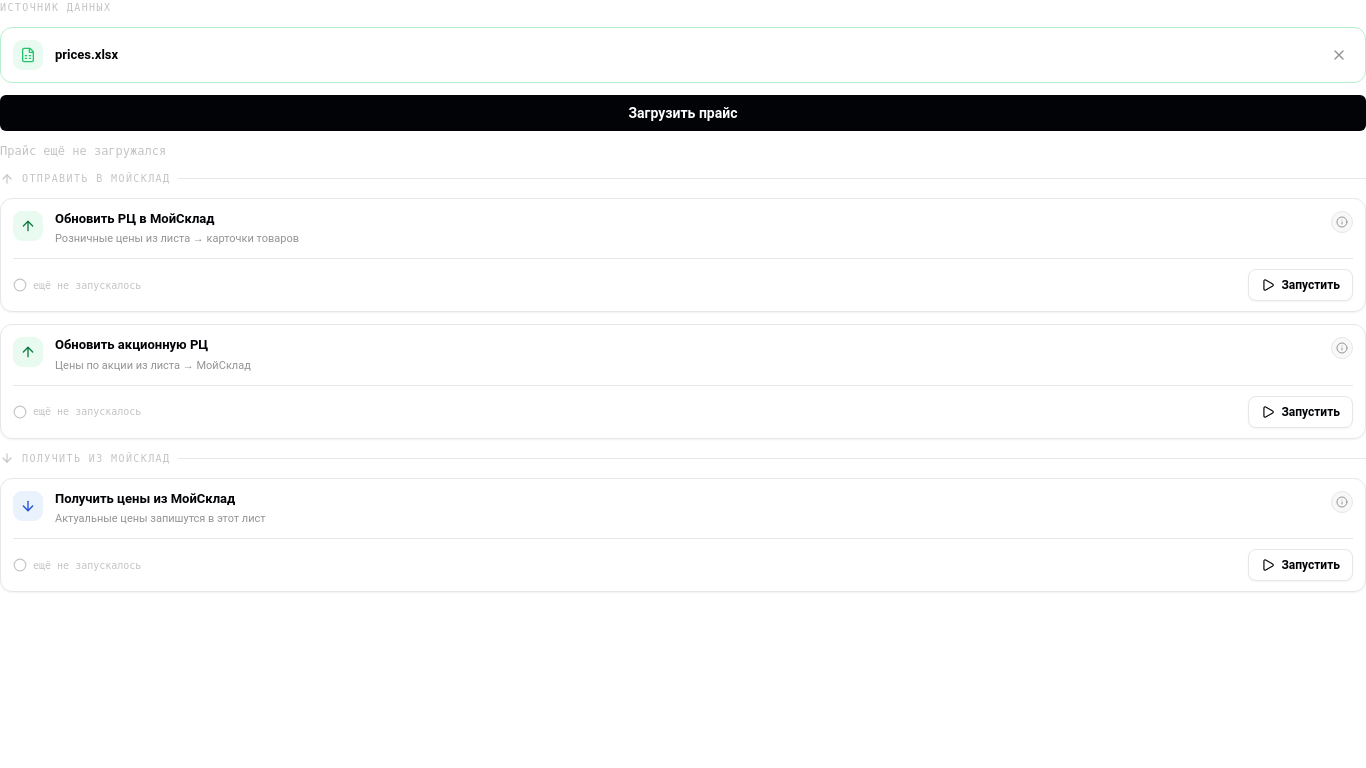
Test: MoySkladPanel › FR9, FR13: SSE import shows the stream status and cancel closes the stream
Click the button with test id "ms-upload-file" at (683, 113), box [0,95,1365,131]
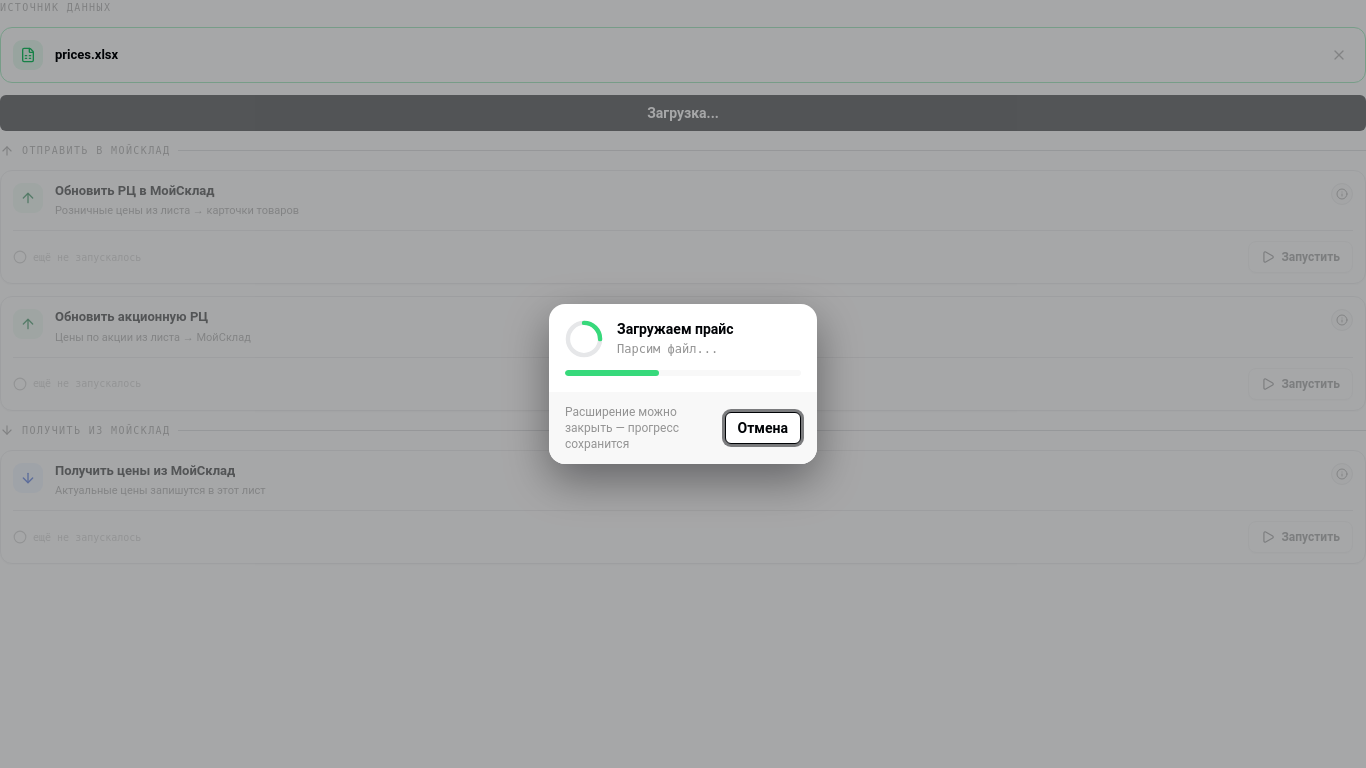
Expected: the text with test id "progress-message" reads "Парсим файл...", [617,342,718,356]
Click the button "Отмена" at (763, 428), box [724,412,801,444]
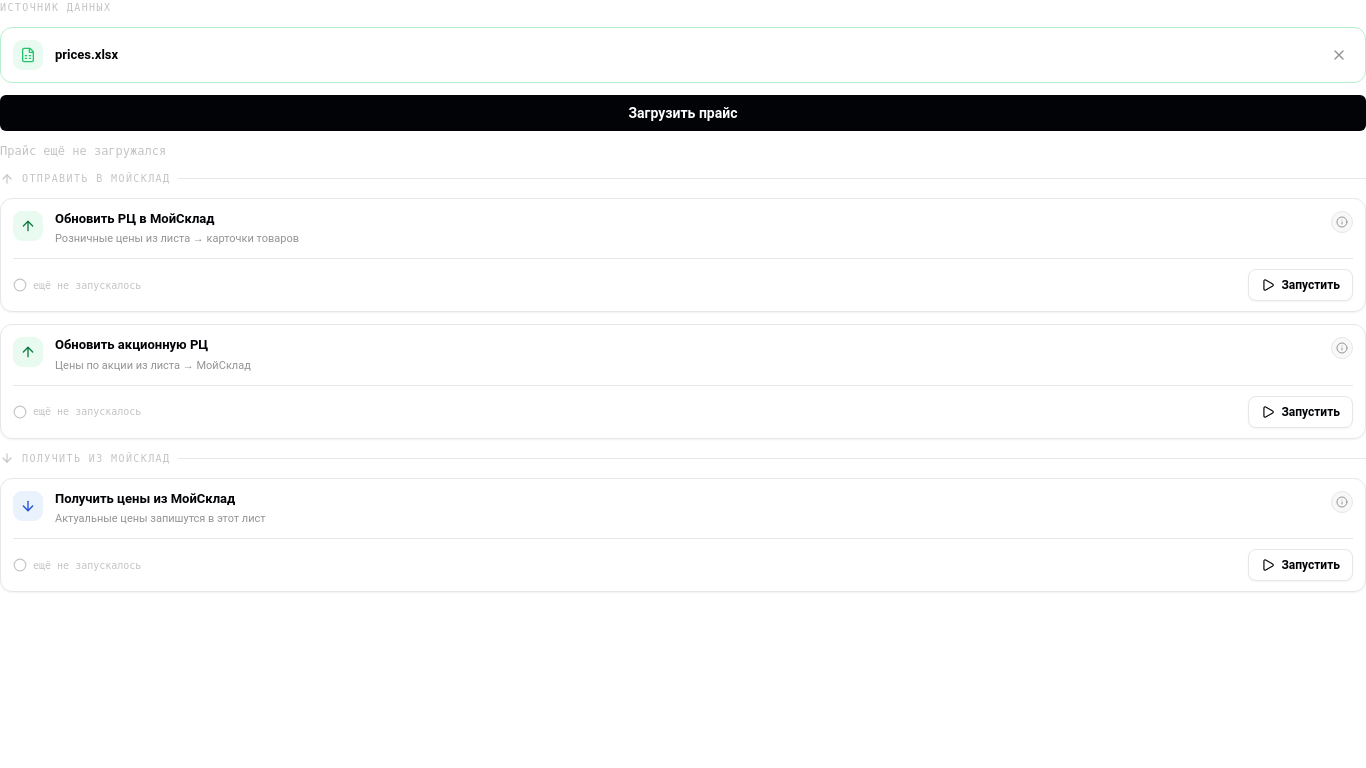
Expected: the dialog with test id "progress-modal" is gone
Expected: the message with test id "ms-import-status" reads "Прайс ещё не загружался", [0,144,166,158]
